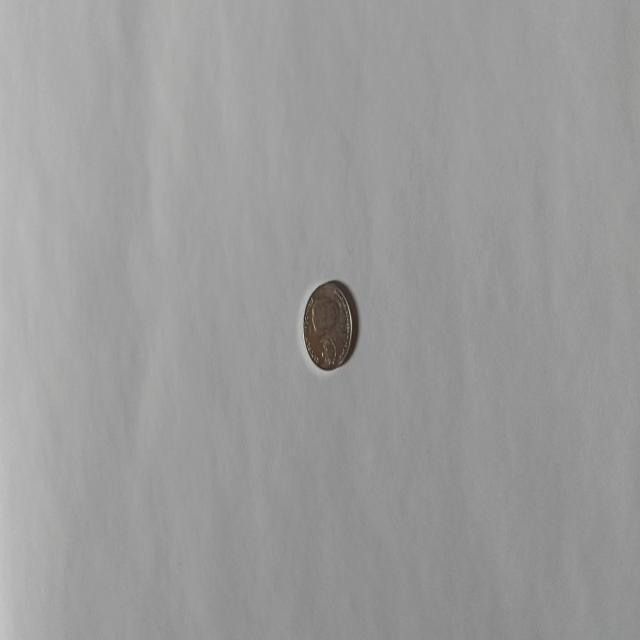seratus rupiah: (302, 279, 352, 371)
